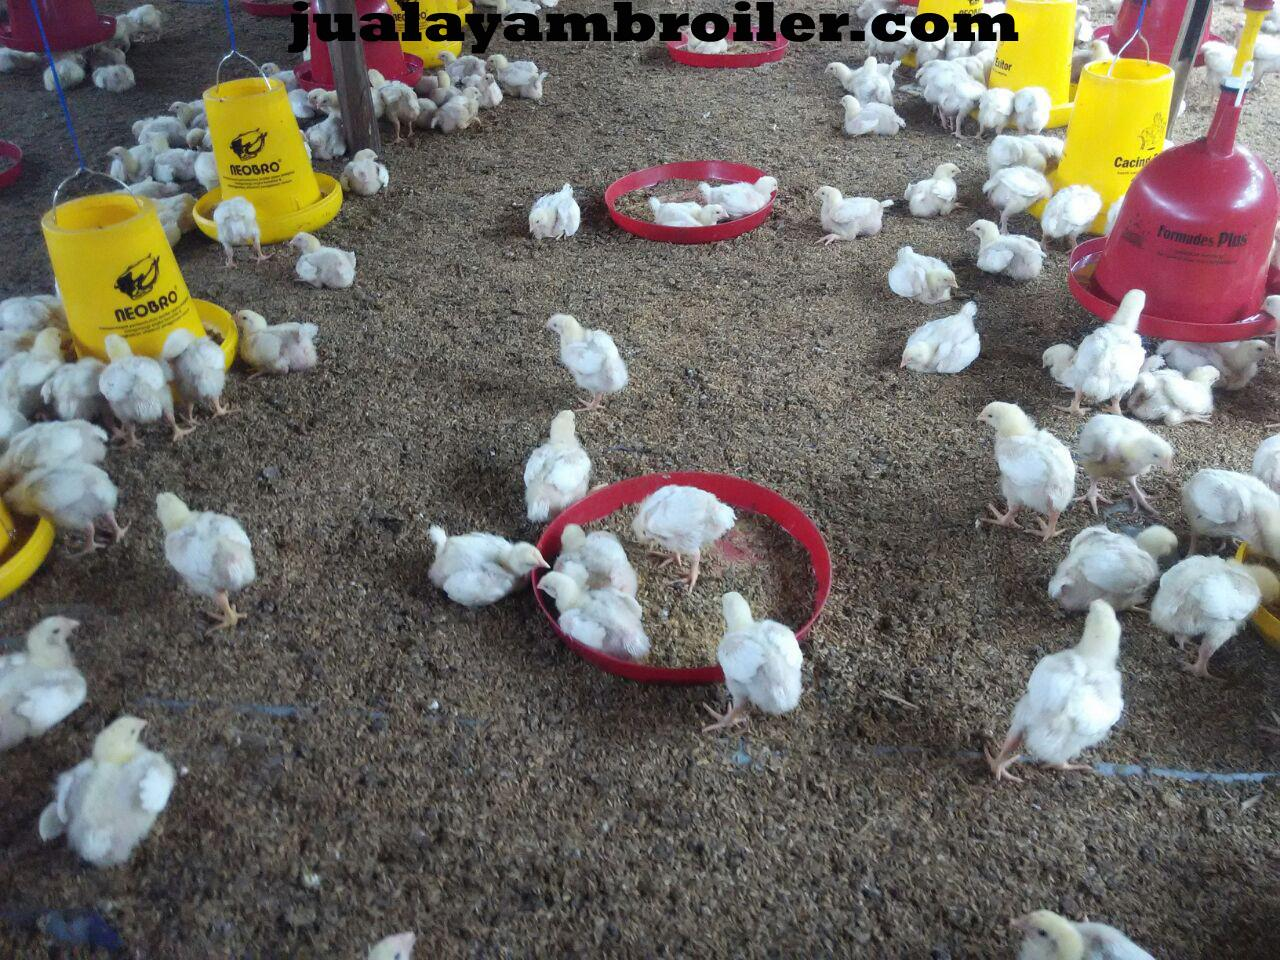chicken: (988, 600, 1122, 783), (39, 710, 178, 866), (1152, 560, 1280, 682), (150, 488, 255, 628), (716, 586, 805, 736), (972, 400, 1069, 535), (0, 612, 88, 751), (1046, 524, 1184, 608), (100, 336, 187, 449), (1076, 412, 1171, 516), (14, 464, 134, 546), (536, 572, 649, 657), (1069, 286, 1150, 406), (634, 480, 730, 568), (432, 534, 546, 607), (1182, 470, 1280, 553), (548, 310, 630, 402), (526, 410, 592, 519), (0, 414, 108, 479), (162, 328, 235, 418), (901, 298, 986, 373), (1163, 336, 1270, 389), (812, 179, 895, 246), (236, 308, 317, 373), (3, 324, 70, 399), (282, 230, 361, 291), (968, 216, 1040, 281), (1141, 366, 1226, 422), (886, 240, 957, 302), (1042, 179, 1102, 252), (987, 162, 1054, 225), (214, 196, 271, 268), (44, 352, 106, 419), (525, 179, 584, 248), (368, 68, 421, 142), (822, 56, 898, 105), (834, 90, 910, 137), (902, 160, 959, 220), (0, 294, 58, 352), (482, 50, 548, 101), (707, 172, 782, 215), (339, 142, 392, 198), (434, 80, 488, 132), (646, 198, 733, 229), (1015, 86, 1052, 134)
